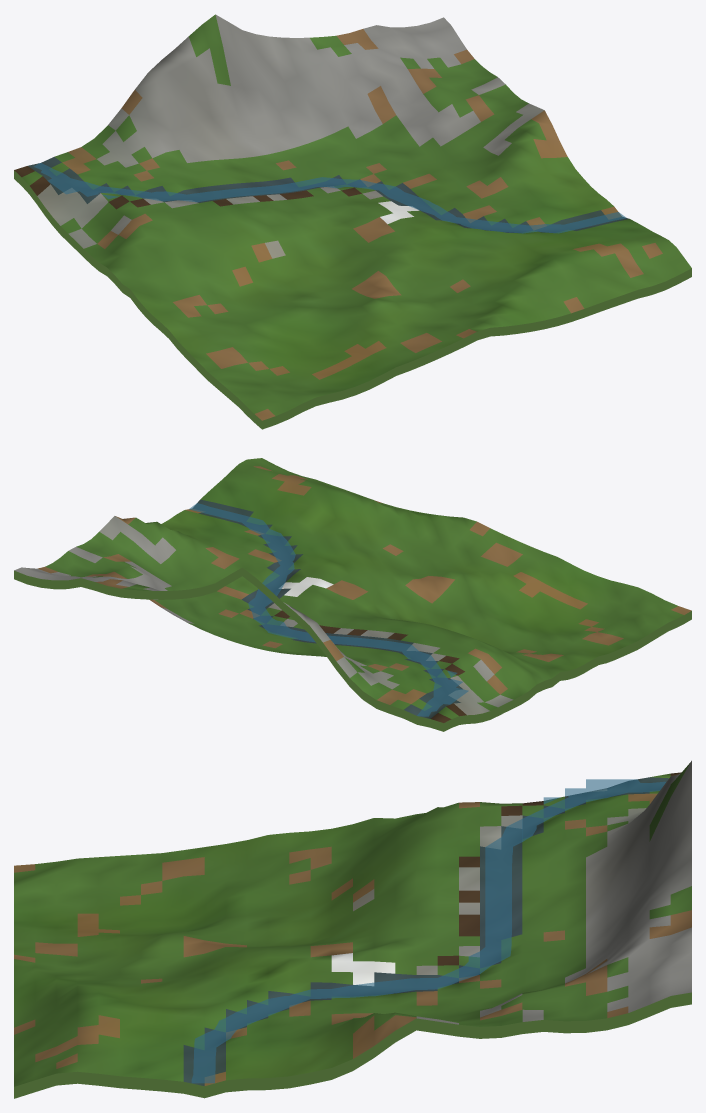
The model's file is chunk_4_3_lod1.glb.
3 renders of one model, top to bottom at view 1: azimuth 30°, elevation 25°; view 2: azimuth 150°, elevation 25°; view 3: azimuth 270°, elevation 25°, orthographic. The views are drawn at different scales.
Parts seen in each view (by area): view 1: Surface_Grass, Surface_Gravel, Surface_Dirt, Surface_Water, Skirt, Water, Surface_Mud; view 2: Surface_Grass, Surface_Dirt, Skirt, Surface_Gravel, Surface_Water, Water, Surface_Mud, Surface_Snow; view 3: Surface_Grass, Surface_Gravel, Surface_Water, Surface_Dirt, Water, Skirt, Surface_Mud, Surface_Snow.
Boxes of the visible parts, <box> form: Surface_Grass: <box>22,14,691,415</box>; Surface_Gravel: <box>37,15,544,258</box>; Surface_Dirt: <box>62,29,662,420</box>; Surface_Water: <box>28,157,629,232</box>; Skirt: <box>14,170,691,429</box>; Water: <box>34,163,626,233</box>; Surface_Mud: <box>14,166,361,209</box>; Surface_Grass: <box>45,458,683,718</box>; Surface_Dirt: <box>38,466,691,704</box>; Skirt: <box>14,567,691,731</box>; Surface_Gravel: <box>14,516,513,715</box>; Surface_Water: <box>193,499,462,718</box>; Water: <box>189,503,468,716</box>; Surface_Mud: <box>274,610,466,722</box>; Surface_Snow: <box>279,577,333,596</box>; Surface_Grass: <box>14,762,691,1086</box>; Surface_Gravel: <box>353,760,691,1024</box>; Surface_Water: <box>183,777,668,1086</box>; Surface_Dirt: <box>14,793,691,1085</box>; Water: <box>191,779,665,1083</box>; Skirt: <box>14,992,691,1098</box>; Surface_Mud: <box>437,772,681,965</box>; Surface_Snow: <box>331,953,395,985</box>.
Size of the model in its own units: 256 by 105 by 256.
